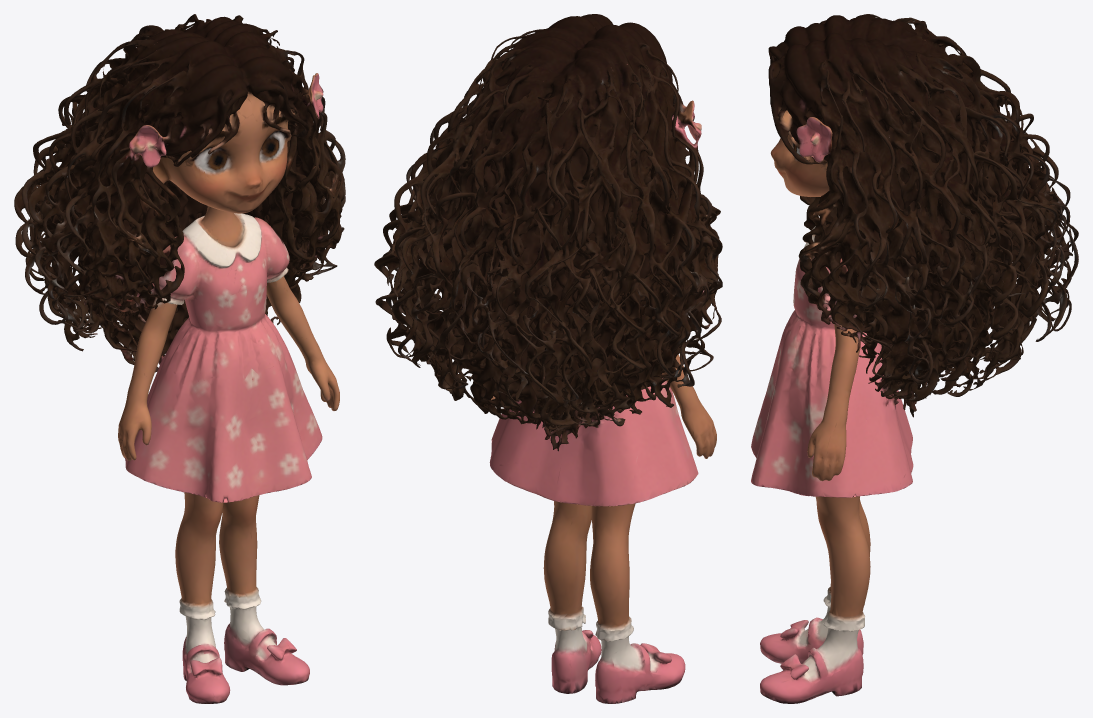
The model's file is gil.glb.
The picture shows the model from 3 angles, left to right: view 1: azimuth 30°, elevation 25°; view 2: azimuth 150°, elevation 25°; view 3: azimuth 270°, elevation 25°; orthographic projection. The views are drawn at different scales.
Size of the model in its own units: 0.9061 by 1.9 by 0.8661.
1 material, 1 textured.
